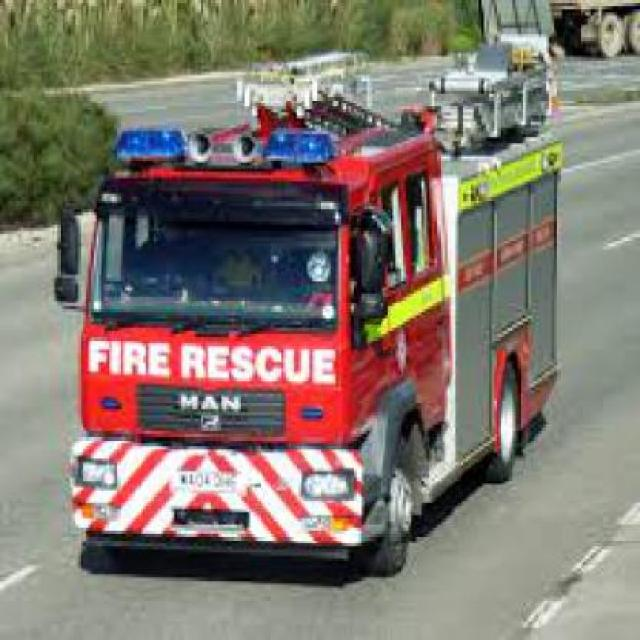Fire Truck: (55, 41, 570, 572)
